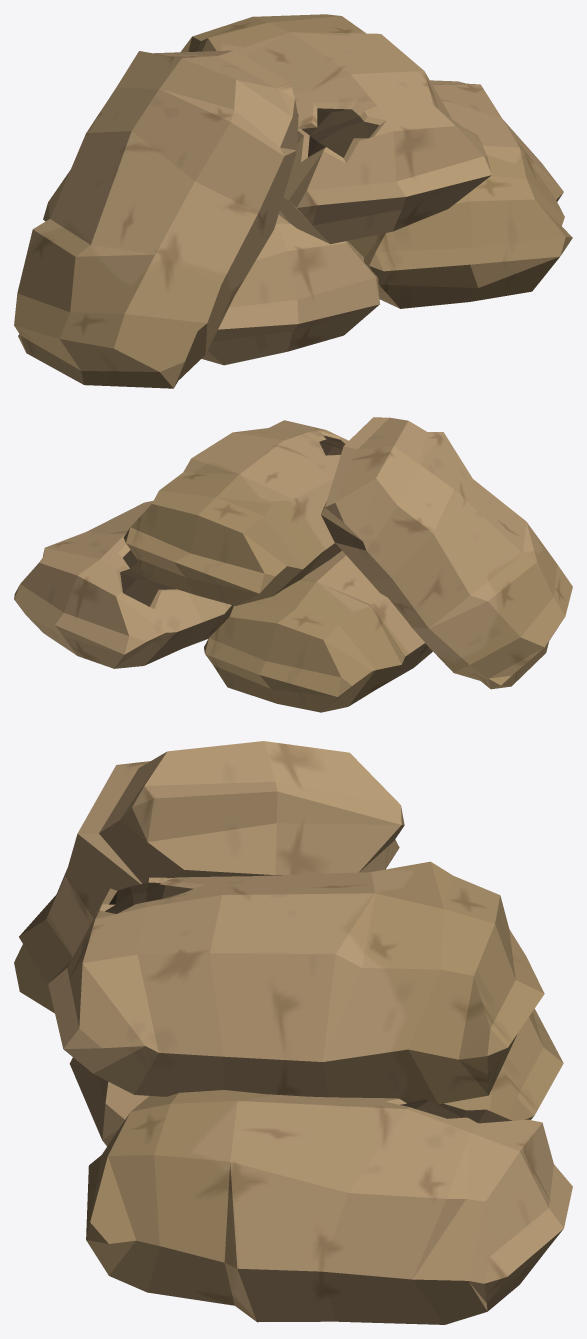
The model's file is SM_Prop_Sack_Pile_02.fbx.
The picture shows the model from 3 angles, top to bottom: view 1: azimuth 30°, elevation 25°; view 2: azimuth 150°, elevation 25°; view 3: azimuth 270°, elevation 25°; orthographic projection. The views are drawn at different scales.
Visible parts, largest first — view 1: SM_Prop_Sack_Pile_02; view 2: SM_Prop_Sack_Pile_02; view 3: SM_Prop_Sack_Pile_02.
Boxes of the visible parts, <box> form: SM_Prop_Sack_Pile_02: <box>14,14,572,388</box>; SM_Prop_Sack_Pile_02: <box>14,417,572,712</box>; SM_Prop_Sack_Pile_02: <box>14,741,572,1324</box>.
Bounding box in the file's own units: 142 × 65.23 × 91.24.
